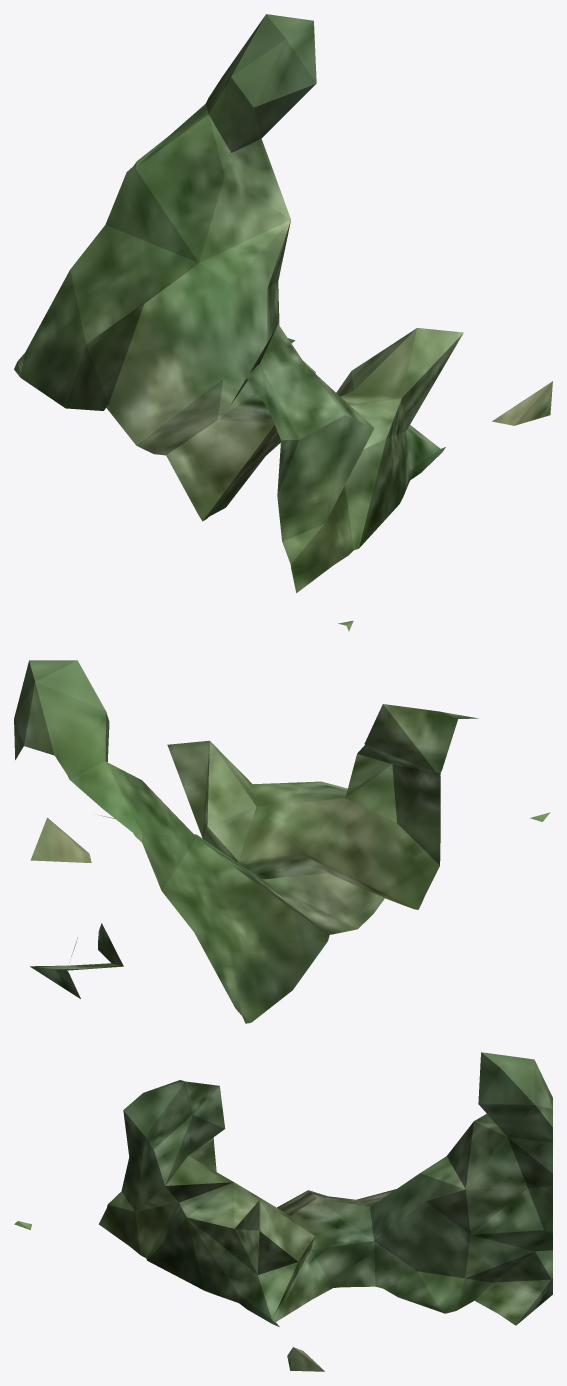
3 views of the same model, one above another, from view 1: azimuth 30°, elevation 25°; view 2: azimuth 150°, elevation 25°; view 3: azimuth 270°, elevation 25° (orthographic). The views are drawn at different scales.
Size of the model in its own units: 1.37 by 1.13 by 2.11.
Materials: 1 (1 with a texture image).
